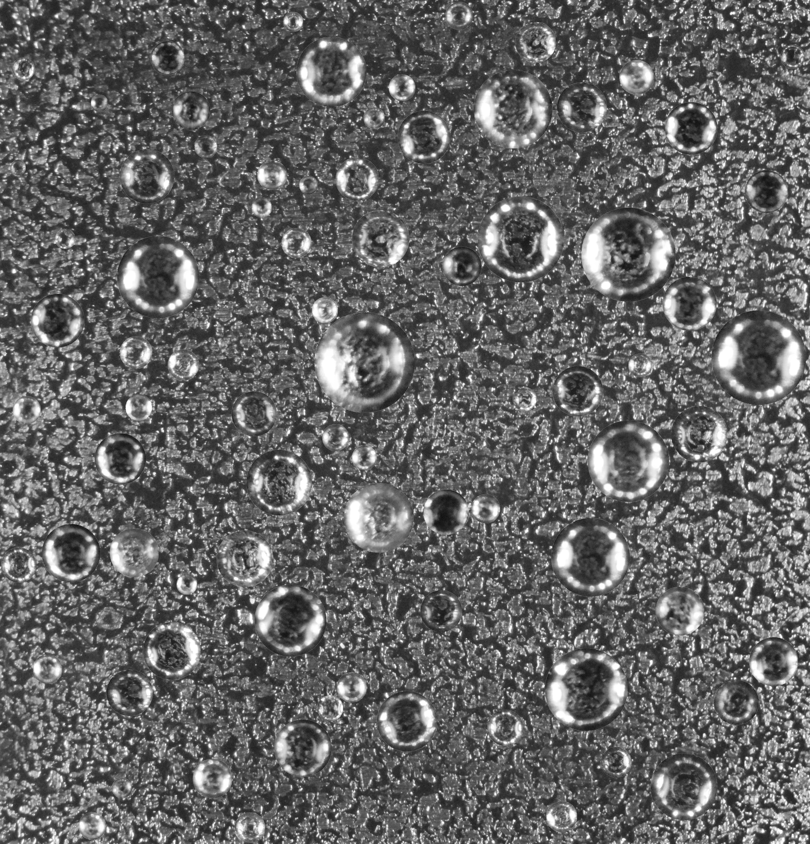Bubble: (314, 312, 414, 412), (711, 310, 806, 404), (581, 207, 675, 301), (477, 196, 563, 282), (117, 236, 199, 318), (545, 648, 627, 730), (587, 420, 669, 501), (473, 69, 552, 148), (551, 518, 629, 596), (254, 584, 326, 656), (296, 36, 366, 106), (344, 483, 413, 552), (650, 753, 717, 820), (246, 449, 311, 515), (376, 691, 437, 751), (41, 524, 100, 582), (352, 210, 409, 267), (216, 530, 273, 587), (274, 719, 331, 776), (143, 622, 200, 679), (671, 406, 727, 462), (119, 149, 174, 203), (30, 293, 84, 347), (662, 276, 716, 330), (397, 110, 450, 163), (665, 102, 717, 154), (94, 433, 145, 484), (552, 366, 603, 416), (557, 82, 606, 132), (749, 637, 798, 686), (109, 528, 158, 577), (655, 586, 704, 635), (106, 669, 152, 716), (231, 391, 276, 436), (423, 489, 468, 534), (714, 680, 758, 724), (335, 157, 378, 200), (745, 170, 787, 212), (420, 590, 462, 632), (515, 22, 555, 62), (192, 759, 232, 798), (442, 246, 481, 285), (171, 91, 210, 129), (487, 709, 523, 745), (1, 547, 36, 582), (619, 60, 653, 94), (150, 41, 184, 74), (119, 336, 152, 368), (167, 349, 198, 380), (546, 801, 577, 832), (234, 812, 265, 843), (601, 747, 631, 777), (336, 672, 366, 702), (281, 228, 311, 257), (32, 654, 62, 683), (471, 494, 500, 523), (257, 160, 286, 189), (12, 396, 40, 424), (445, 1, 473, 29), (78, 812, 105, 839), (388, 74, 415, 100), (125, 394, 151, 420), (322, 424, 348, 450), (317, 695, 343, 721), (312, 297, 337, 323), (352, 445, 376, 470), (512, 387, 536, 411), (780, 44, 804, 68), (628, 353, 652, 377), (12, 57, 34, 80), (194, 135, 217, 157), (363, 107, 384, 128), (176, 574, 197, 594), (283, 11, 303, 31), (55, 228, 75, 248), (251, 197, 271, 217), (111, 778, 131, 798), (299, 175, 317, 194), (90, 94, 107, 111), (10, 159, 25, 175)
